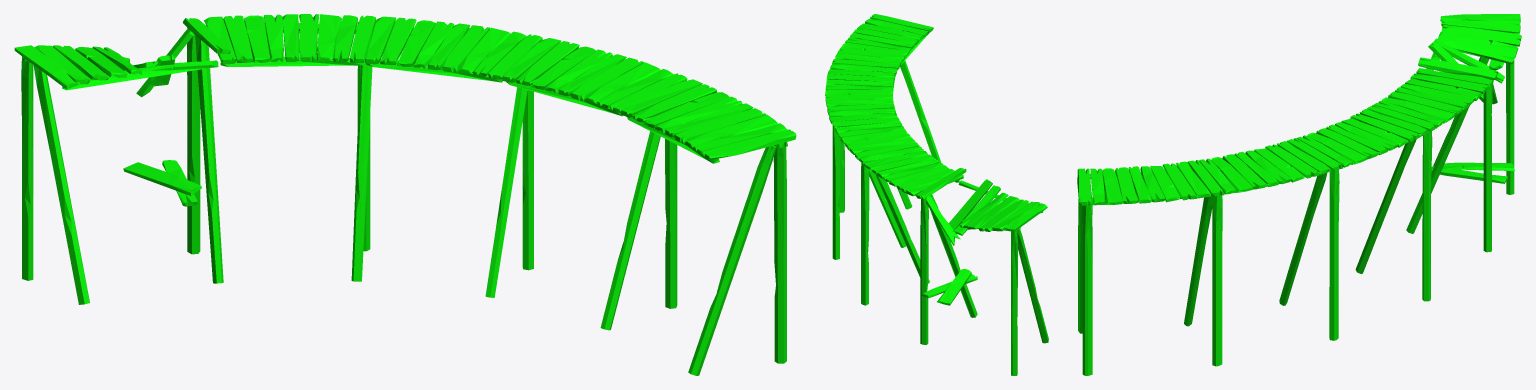
The model's file is SM_Palisade_Gallery_Corner_Round_9x9_Concave_A_Broken.fbx.
The picture shows the model from 3 angles, left to right: view 1: azimuth 30°, elevation 25°; view 2: azimuth 150°, elevation 25°; view 3: azimuth 270°, elevation 25°; orthographic projection. The views are drawn at different scales.
Parts seen in each view (by area): view 1: palisade-gallery-corner-round-9x9-concave-a-broken; view 2: palisade-gallery-corner-round-9x9-concave-a-broken; view 3: palisade-gallery-corner-round-9x9-concave-a-broken.
Boxes of the visible parts, left/top/right/bottom form: palisade-gallery-corner-round-9x9-concave-a-broken: left=14, top=14, right=796, bottom=375; palisade-gallery-corner-round-9x9-concave-a-broken: left=825, top=14, right=1048, bottom=375; palisade-gallery-corner-round-9x9-concave-a-broken: left=1077, top=14, right=1521, bottom=375.
Bounding box in the file's own units: 11.05 × 5.08 × 11.03.
